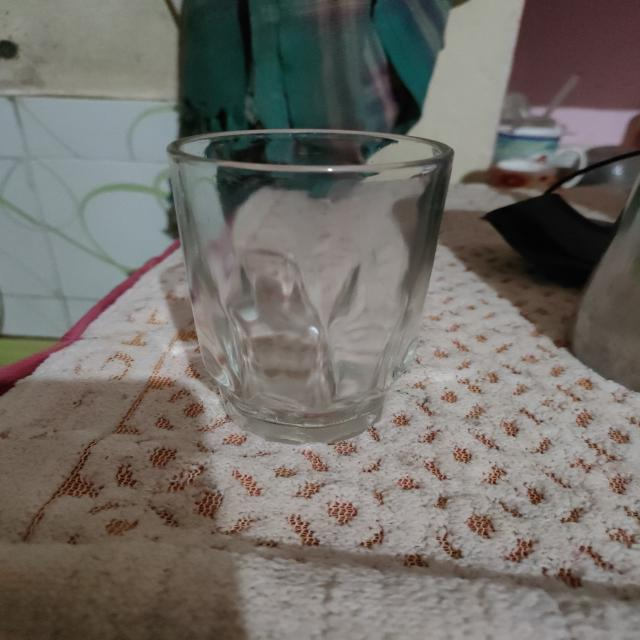Glass: (161, 125, 458, 448)
